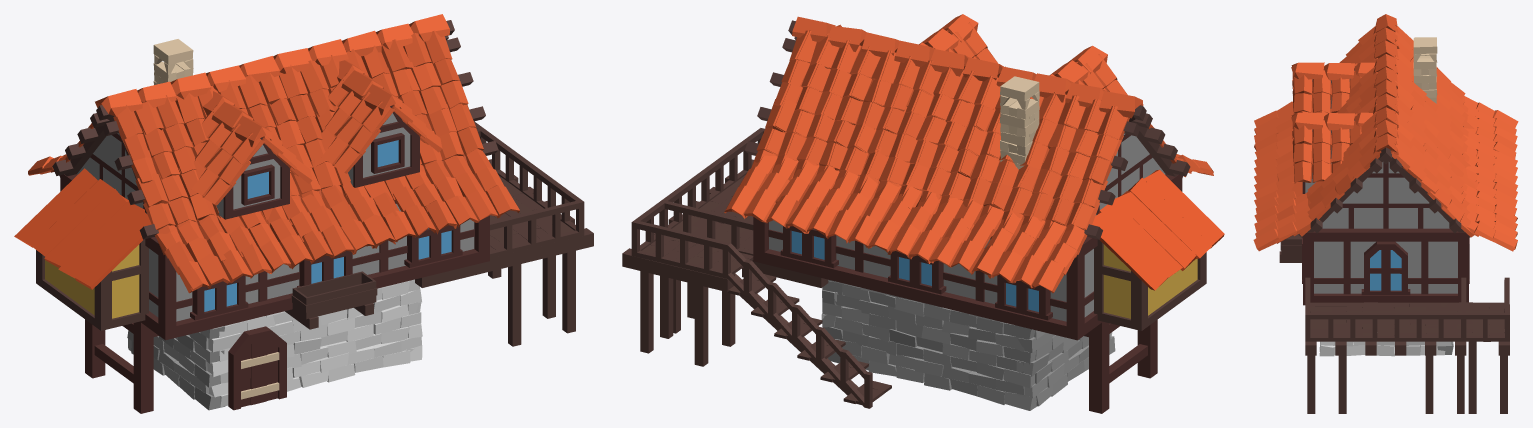
The model's file is Buildings.fbx.
The picture shows the model from 3 angles, left to right: view 1: azimuth 30°, elevation 25°; view 2: azimuth 150°, elevation 25°; view 3: azimuth 270°, elevation 25°; orthographic projection. The views are drawn at different scales.
Visible parts, largest first — view 1: Building_Roof_02, Building_Side_Room, Stone_Wall, Building_Second_Floor_01, Building_Ceiling_Window, Building_Ceiling_Window.001, Building_Roof_03, Stone_Wall.001, Building_Support_01, Building_Terrace_Support_01, Building_Roof_01.001, Building_Terrace_Handrail_01 (+13 smaller); view 2: Building_Roof_02.001, Building_Roof_01, Stone_Wall.002, Building_Side_Room, Building_Second_Floor_01, Building_Terrace_Stairs, Building_Roof_03, Building_Terrace_Handrail_02, Stone_Wall.001, Building_Support_01, Building_Terrace_Support_03, Building_Chimney_01 (+14 smaller); view 3: Building_Roof_02, Building_Second_Floor_01, Building_Roof_01, Building_Roof_02.001, Building_Ceiling, Building_Ceiling_Window, Building_Terrace_Floor_01, Building_Ceiling_Window.001, Building_Roof_03, Building_Terrace_Handrail_01, Big_Window.007, Building_Terrace_Support_01 (+8 smaller).
Part boxes in pixels (bbox=[...]): Building_Roof_02: bbox=[115, 30, 519, 293]; Building_Side_Room: bbox=[14, 168, 151, 330]; Stone_Wall: bbox=[207, 279, 422, 407]; Building_Second_Floor_01: bbox=[60, 174, 489, 340]; Building_Ceiling_Window: bbox=[321, 60, 442, 187]; Building_Ceiling_Window.001: bbox=[192, 91, 312, 219]; Building_Roof_03: bbox=[95, 14, 449, 116]; Stone_Wall.001: bbox=[127, 326, 225, 410]; Building_Support_01: bbox=[85, 319, 158, 413]; Building_Terrace_Support_01: bbox=[488, 250, 575, 346]; Building_Roof_01.001: bbox=[113, 41, 482, 254]; Building_Terrace_Handrail_01: bbox=[477, 128, 584, 258]; Building_Roof_02.001: bbox=[724, 30, 1129, 293]; Building_Roof_01: bbox=[752, 30, 1117, 254]; Stone_Wall.002: bbox=[822, 279, 1037, 410]; Building_Side_Room: bbox=[1092, 169, 1224, 330]; Building_Second_Floor_01: bbox=[753, 174, 1182, 340]; Building_Terrace_Stairs: bbox=[727, 243, 891, 408]; Building_Roof_03: bbox=[792, 16, 1143, 118]; Building_Terrace_Handrail_02: bbox=[631, 130, 763, 278]; Stone_Wall.001: bbox=[1016, 329, 1115, 406]; Building_Support_01: bbox=[1084, 320, 1157, 413]; Building_Terrace_Support_03: bbox=[640, 271, 708, 366]; Building_Chimney_01: bbox=[999, 76, 1039, 169]; Building_Roof_02: bbox=[1253, 25, 1380, 251]; Building_Second_Floor_01: bbox=[1303, 228, 1468, 305]; Building_Roof_01: bbox=[1391, 26, 1475, 237]; Building_Roof_02.001: bbox=[1390, 25, 1518, 251]; Building_Ceiling: bbox=[1322, 162, 1449, 228]; Building_Ceiling_Window: bbox=[1291, 112, 1372, 193]; Building_Terrace_Floor_01: bbox=[1310, 302, 1460, 335]; Building_Ceiling_Window.001: bbox=[1291, 62, 1374, 115]; Building_Roof_03: bbox=[1373, 14, 1399, 155]; Building_Terrace_Handrail_01: bbox=[1305, 277, 1466, 341]; Big_Window.007: bbox=[1361, 241, 1410, 295]; Building_Terrace_Support_01: bbox=[1307, 355, 1464, 413].
Size of the model in its own units: 1828 by 1129 by 1076.
